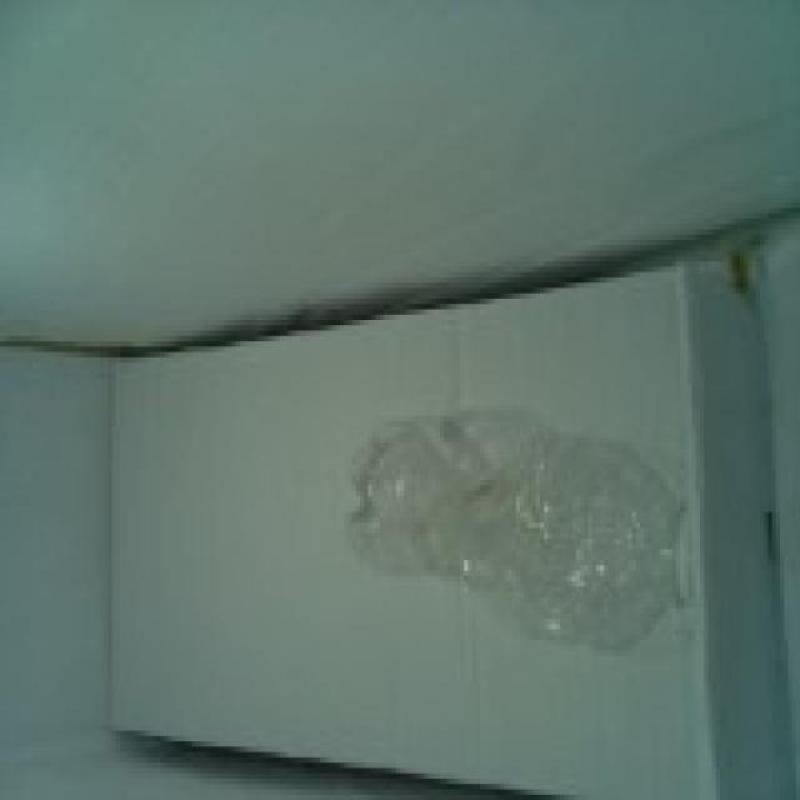botella: (349, 409, 690, 655)
